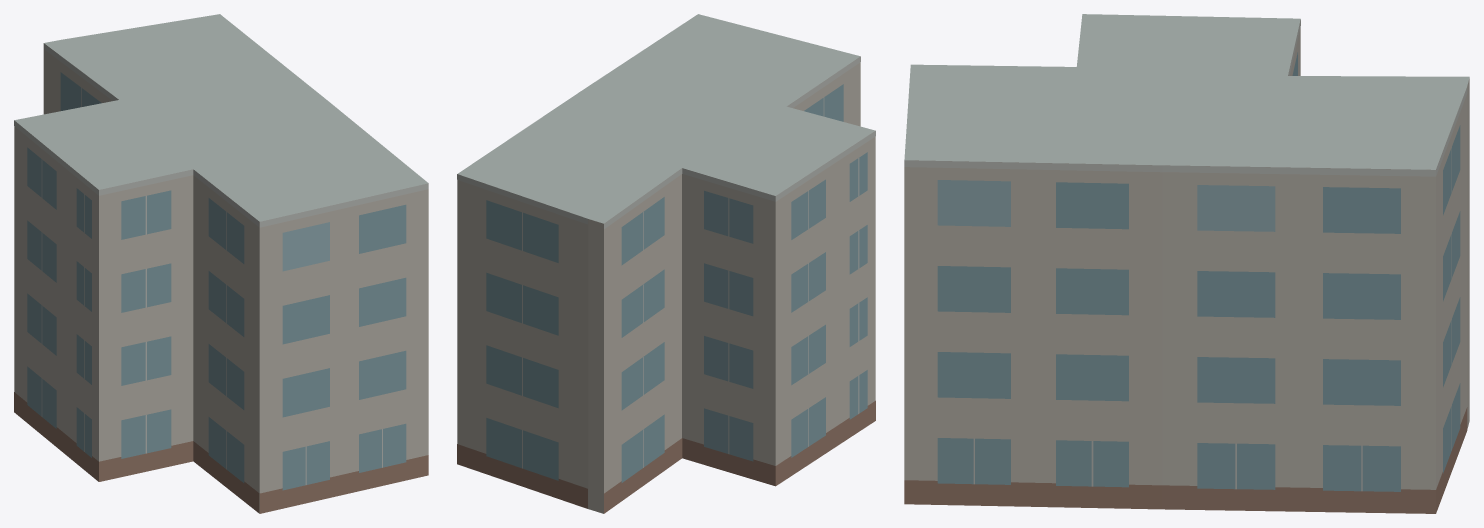
The model's file is survey-upis-32462896.glb.
3 renders of one model, left to right at view 1: azimuth 30°, elevation 25°; view 2: azimuth 150°, elevation 25°; view 3: azimuth 270°, elevation 25°, orthographic. The views are drawn at different scales.
Visible parts, largest first — view 1: survey-upis-32462896.tmp; view 2: survey-upis-32462896.tmp; view 3: survey-upis-32462896.tmp.
Boxes of the visible parts, x1,y1,x2,y2 form: survey-upis-32462896.tmp: (14,14,428,513); survey-upis-32462896.tmp: (457,14,875,513); survey-upis-32462896.tmp: (904,14,1469,513).
Size of the model in its own units: 11.86 by 12.2 by 18.18.
